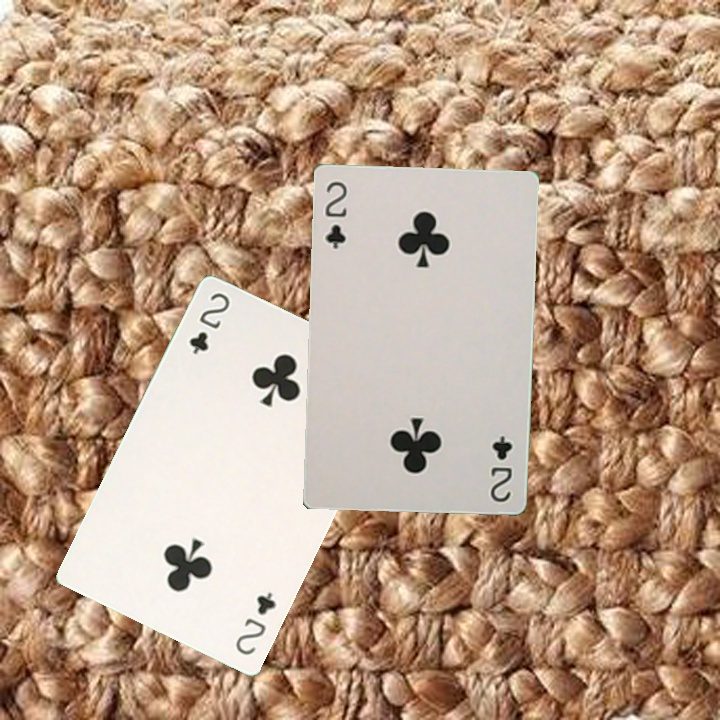2c: (231, 588, 279, 658), (185, 288, 233, 357), (321, 177, 350, 252), (486, 431, 515, 504)
